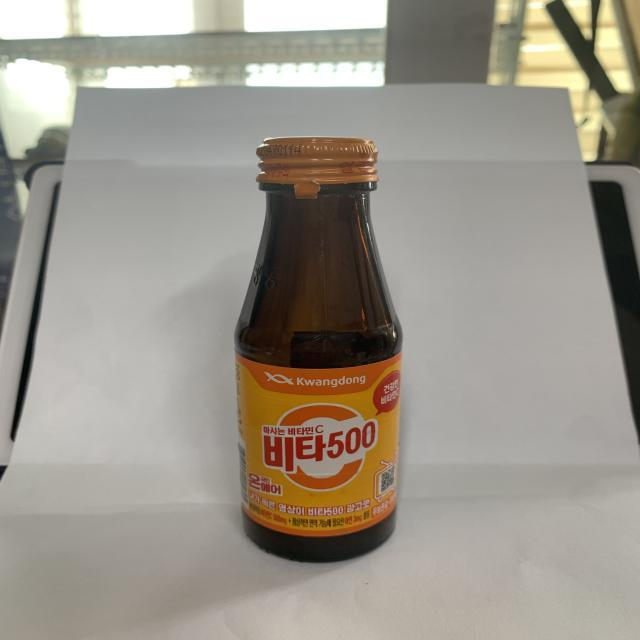Glass: (230, 136, 404, 562)
